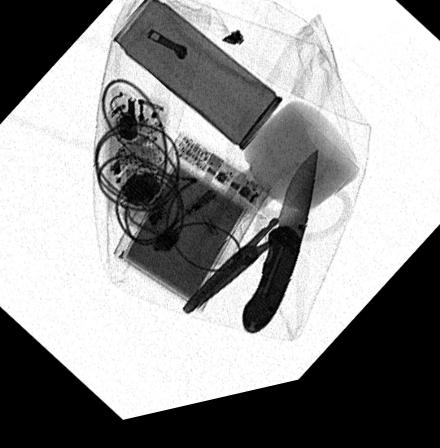Knife: (240, 162, 319, 348)
Powerbank: (109, 142, 272, 321)
Scissors: (179, 167, 351, 326)
